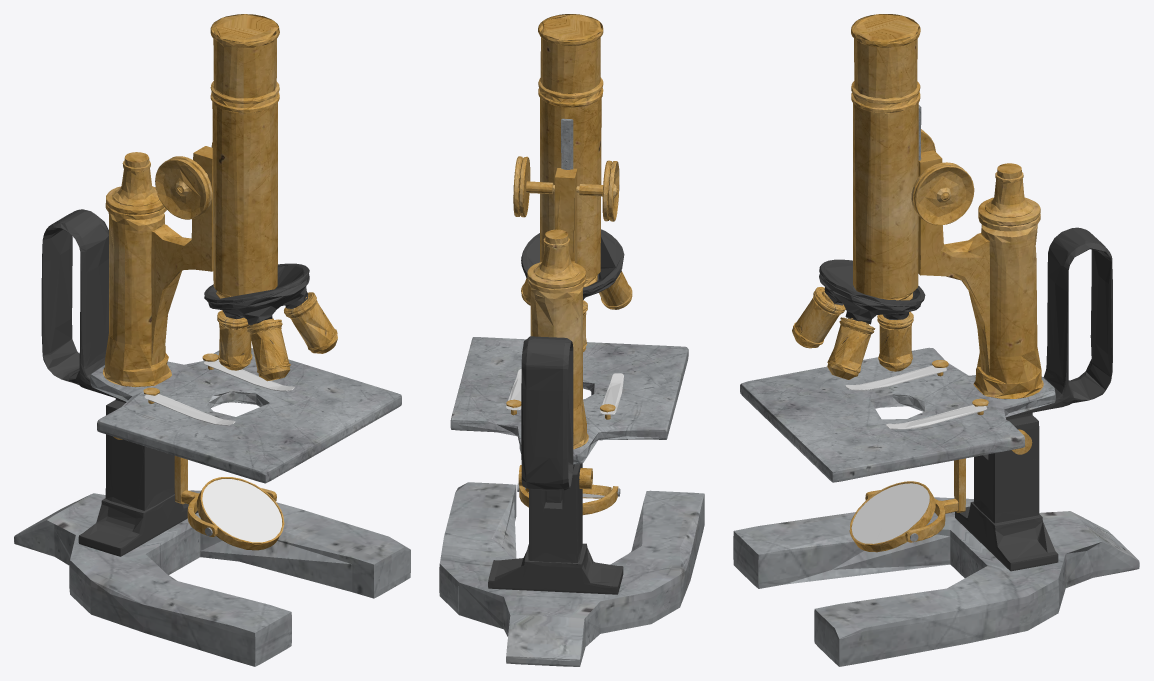
File: microscope.glb
3 views of the same model, side by side, from view 1: azimuth 30°, elevation 25°; view 2: azimuth 150°, elevation 25°; view 3: azimuth 270°, elevation 25° (orthographic). The views are drawn at different scales.
Visible parts, largest first — view 1: Object_4, Object_10, Object_6, Object_16, Object_40, Object_46; view 2: Object_4, Object_6, Object_10, Object_16, Object_46, Object_26; view 3: Object_4, Object_10, Object_6, Object_16, Object_40, Object_46.
Part boxes in pixels (x1,y1,x2,y2): Object_4: (14,348,410,666); Object_10: (102,14,337,439); Object_6: (41,209,309,556); Object_16: (105,14,284,550); Object_40: (202,479,282,542); Object_46: (144,359,294,425); Object_4: (439,130,704,666); Object_6: (488,229,624,594); Object_10: (506,14,632,489); Object_16: (511,14,619,514); Object_46: (506,369,623,414); Object_26: (561,118,573,169); Object_4: (733,347,1139,666); Object_10: (792,14,1043,454); Object_6: (819,227,1112,571); Object_16: (849,14,1040,552); Object_40: (851,483,929,543); Object_46: (845,365,987,429).
Size of the model in its own units: 0.1789 by 0.35 by 0.2256.
Materials: 8 (4 with a texture image).
